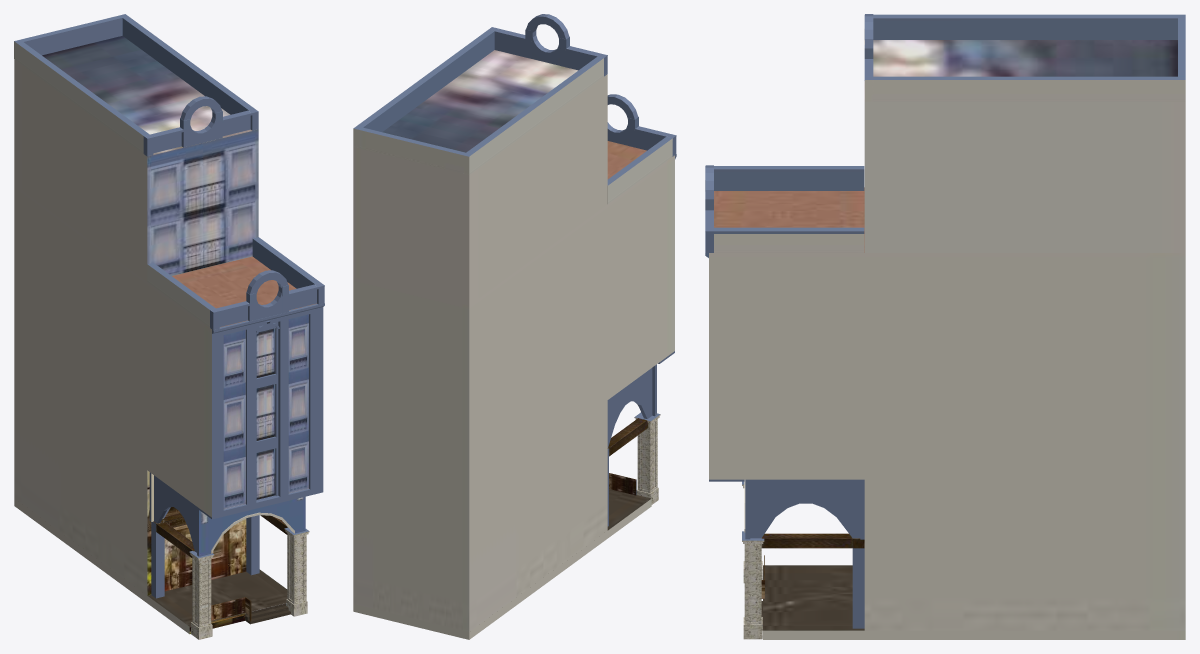
3 views of the same model, side by side, from view 1: azimuth 30°, elevation 25°; view 2: azimuth 150°, elevation 25°; view 3: azimuth 270°, elevation 25° (orthographic). The views are drawn at different scales.
Visible parts, largest first — view 1: HN076_O_Gallery_Premier_Hotel___Spa; view 2: HN076_O_Gallery_Premier_Hotel___Spa; view 3: HN076_O_Gallery_Premier_Hotel___Spa.
Boxes of the visible parts, <box> form: HN076_O_Gallery_Premier_Hotel___Spa: <box>14,14,324,639</box>; HN076_O_Gallery_Premier_Hotel___Spa: <box>353,14,676,639</box>; HN076_O_Gallery_Premier_Hotel___Spa: <box>705,14,1185,639</box>.
Bounding box in the file's own units: 6.51 × 27.36 × 20.17.
Materials: 1 (1 with a texture image).
